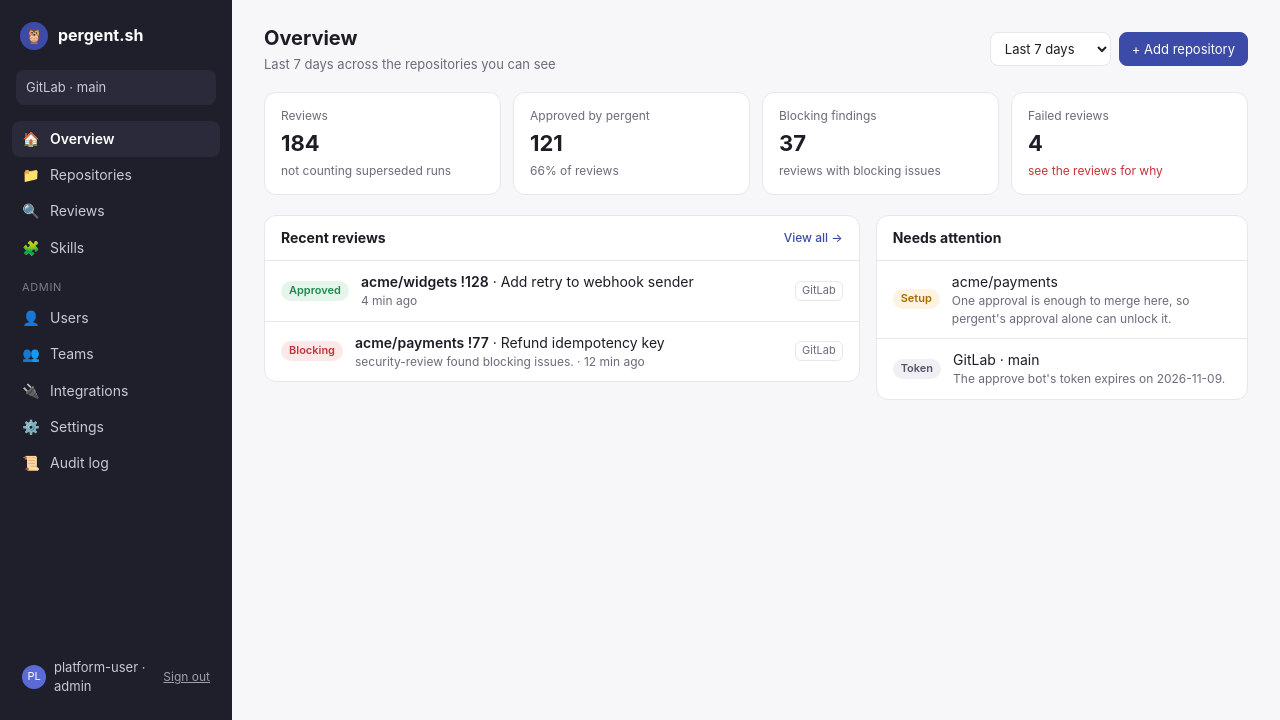
it: Overview › asks for another period
Expected: the text "184" is shown, [281,130,320,156]
Select "Last 30 days" in the dropdown named "Period" at (1050, 49), box [990,32,1111,66]
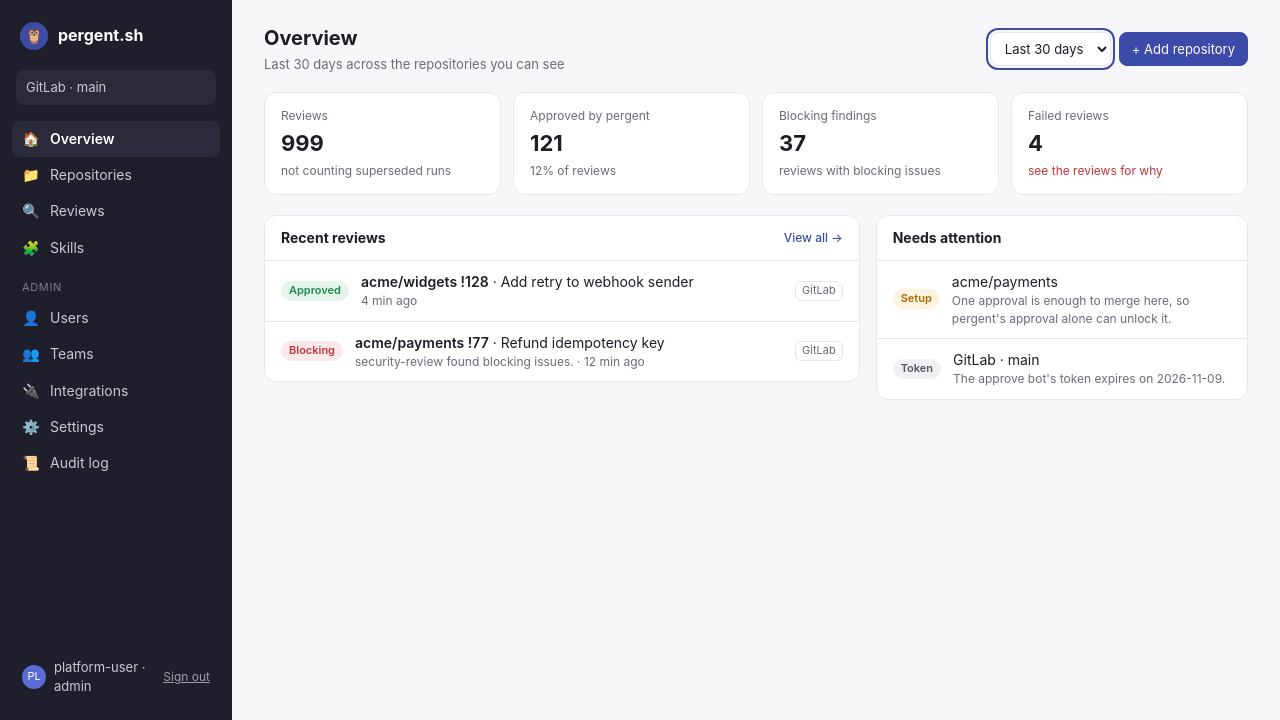
Expected: the text "999" is shown, [281,130,324,156]
